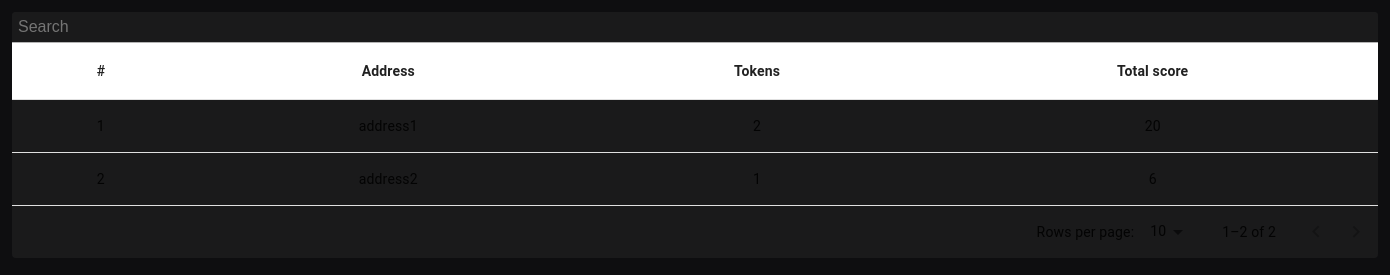
Test: degree-card › should filter 1 row
Type "address1" into the field with placeholder "Search".
click(695, 28); type("address1")  # box [12, 12, 1378, 43]
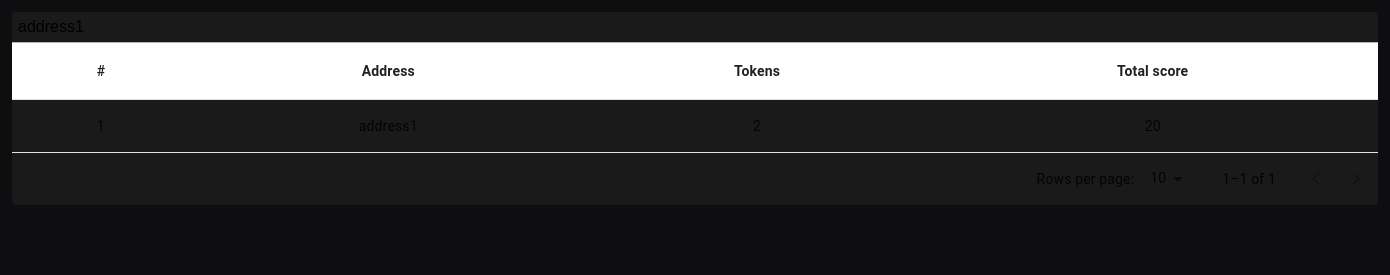
Result: the number of checkboxes is 1 at [12, 100, 1378, 153]
